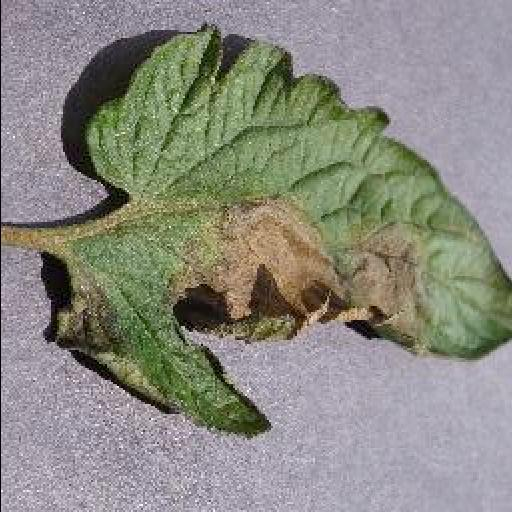disease_tomato: (52, 20, 512, 440)
